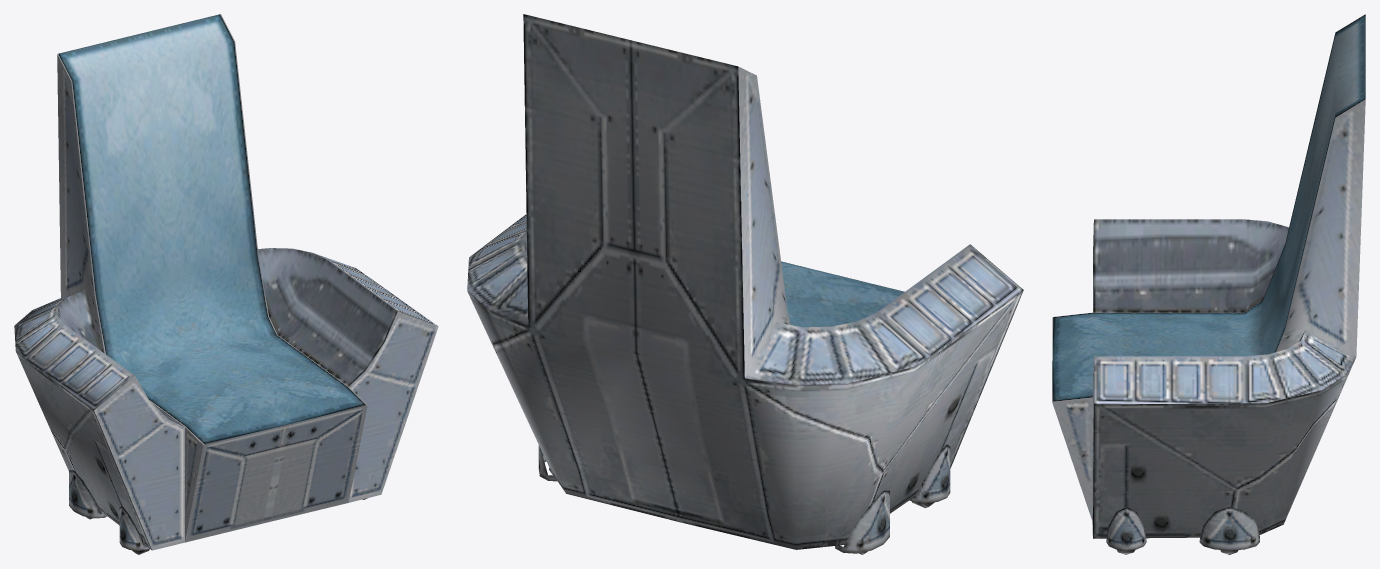
Rendered from frn_all_chair_metal_wheeled_s1_l1.fbx.
3 views of the same model, side by side, from view 1: azimuth 30°, elevation 25°; view 2: azimuth 150°, elevation 25°; view 3: azimuth 270°, elevation 25° (orthographic). The views are drawn at different scales.
Parts seen in each view (by area): view 1: mesh_node; view 2: mesh_node; view 3: mesh_node.
Boxes of the visible parts, left/top/right/bottom form: mesh_node: left=14, top=14, right=438, bottom=554; mesh_node: left=467, top=14, right=1023, bottom=554; mesh_node: left=1052, top=14, right=1365, bottom=554.
Size of the model in its own units: 1.05 by 1.2 by 0.7756.
